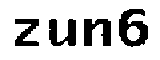6: (117, 6, 149, 52)
n: (80, 17, 116, 50)
u: (46, 15, 78, 51)
z: (12, 15, 41, 52)
